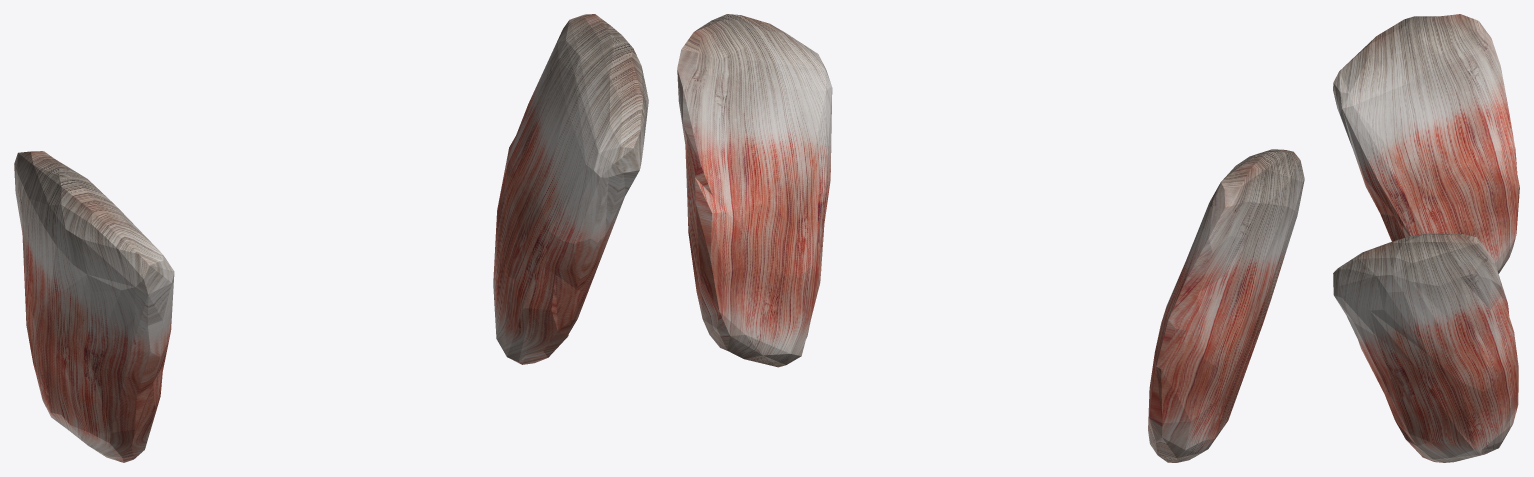
Rendered from Massetter.obj.
3 views of the same model, side by side, from view 1: azimuth 30°, elevation 25°; view 2: azimuth 150°, elevation 25°; view 3: azimuth 270°, elevation 25° (orthographic). The views are drawn at different scales.
Parts seen in each view (by area): view 1: Musculos_Cabeza_1:Massetter:Massetter; view 2: Musculos_Cabeza_1:Massetter:Massetter; view 3: Musculos_Cabeza_1:Massetter:Massetter.
Boxes of the visible parts, box(x1,y1,x2,y2) form: Musculos_Cabeza_1:Massetter:Massetter: box(14, 14, 648, 462); Musculos_Cabeza_1:Massetter:Massetter: box(677, 14, 1304, 462); Musculos_Cabeza_1:Massetter:Massetter: box(1333, 14, 1519, 462).
Bounding box in the file's own units: 0.6 × 0.314 × 0.2053.
1 material, 1 textured.
